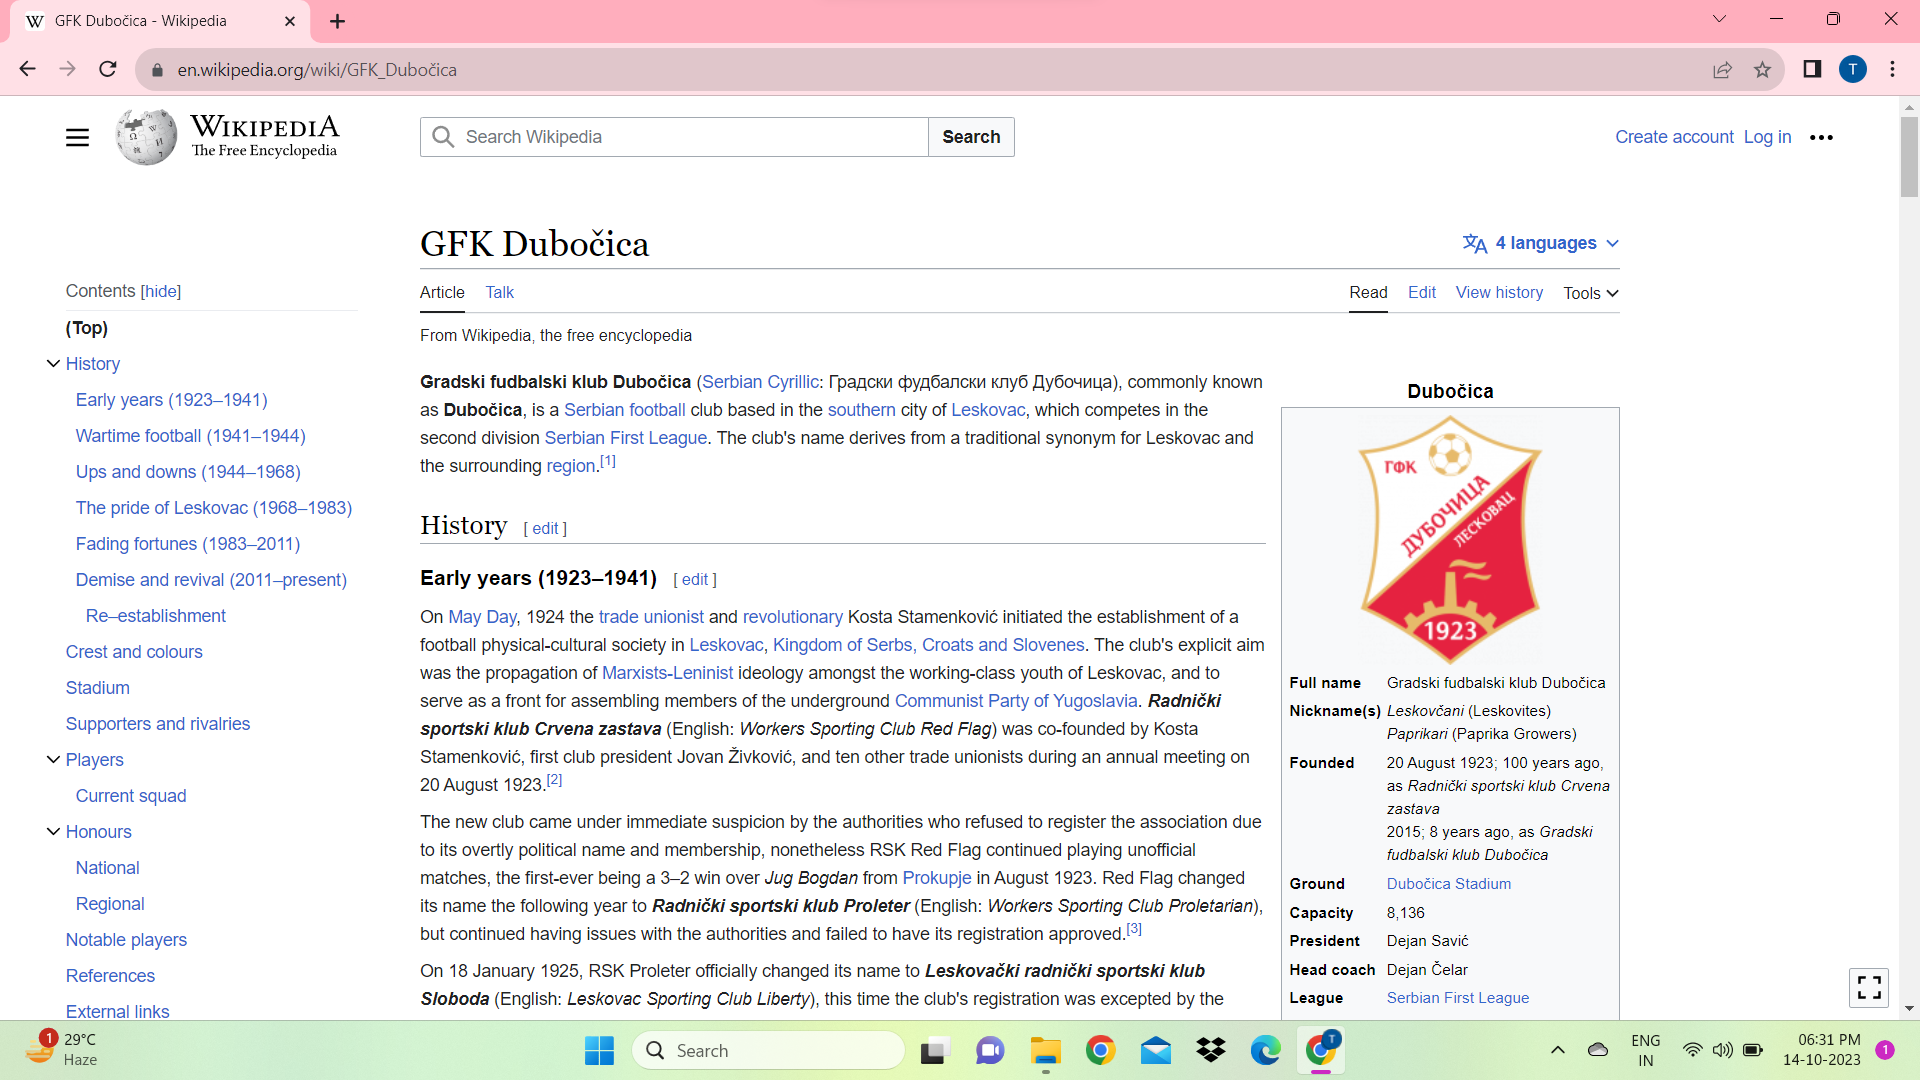Image: (1340, 417, 1567, 655)
Paragraph: (417, 607, 1271, 790), (414, 807, 1266, 947), (414, 367, 1269, 475), (411, 956, 1242, 1014), (1385, 749, 1618, 868), (411, 211, 654, 269), (418, 556, 661, 600), (67, 566, 352, 600), (1383, 703, 1588, 744), (417, 319, 691, 349), (74, 454, 306, 488), (71, 496, 369, 522), (71, 530, 305, 560), (62, 705, 255, 740), (1387, 669, 1607, 696), (74, 601, 240, 637), (57, 634, 214, 671), (69, 386, 274, 414), (1395, 367, 1510, 414), (69, 773, 203, 811), (74, 423, 309, 444), (58, 274, 220, 302), (411, 505, 512, 543), (1288, 695, 1381, 729), (67, 886, 153, 922), (1377, 874, 1516, 895), (1288, 953, 1377, 986), (67, 932, 193, 953), (1290, 662, 1377, 692), (50, 678, 153, 703), (50, 963, 153, 988), (67, 848, 146, 878), (58, 997, 179, 1017), (58, 744, 140, 773), (1288, 749, 1360, 779), (1283, 926, 1364, 951), (1283, 898, 1361, 922), (61, 315, 123, 343), (65, 818, 136, 841), (1288, 868, 1348, 895), (1381, 988, 1534, 998), (1387, 956, 1472, 975), (67, 349, 129, 373), (1381, 927, 1473, 943), (481, 276, 525, 305), (1378, 899, 1435, 919), (1286, 990, 1357, 1005), (411, 285, 472, 299)
